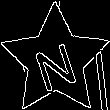N_N: (29, 30, 82, 91)
